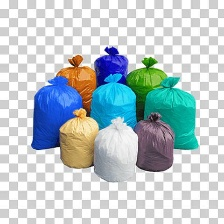plastic_bag: (142, 76, 202, 152), (28, 76, 85, 151), (124, 53, 174, 122), (87, 71, 142, 133), (91, 115, 139, 184), (51, 52, 99, 117), (132, 108, 177, 175), (57, 105, 102, 172), (91, 43, 133, 90)
